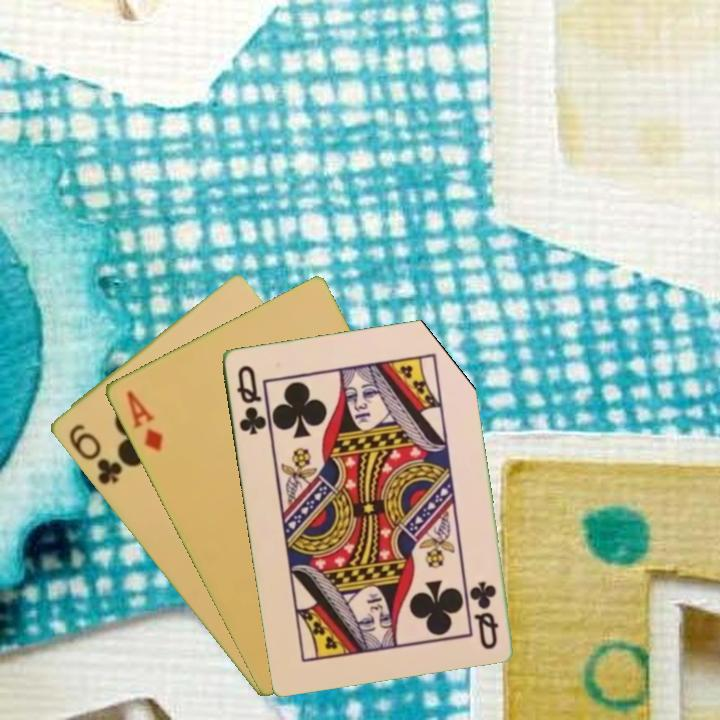6c: (64, 420, 125, 488)
Ad: (122, 386, 165, 455)
Qc: (233, 361, 269, 438), (467, 577, 501, 652)
